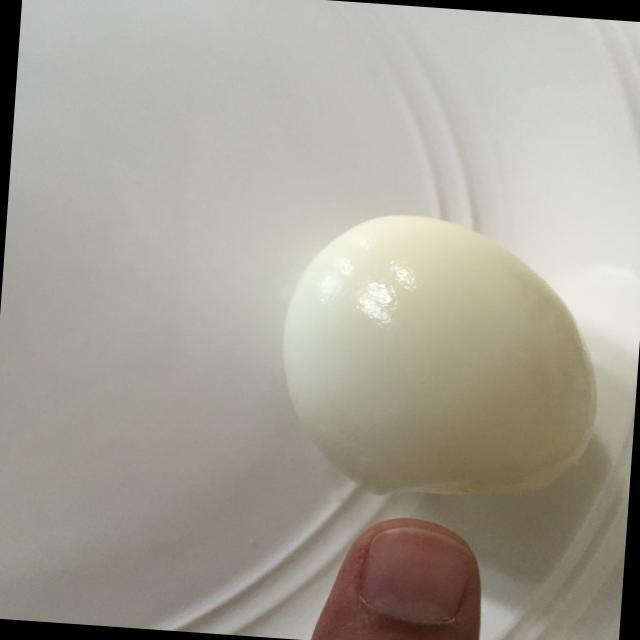Egg: (253, 189, 612, 516)
Finger: (293, 507, 528, 640)
